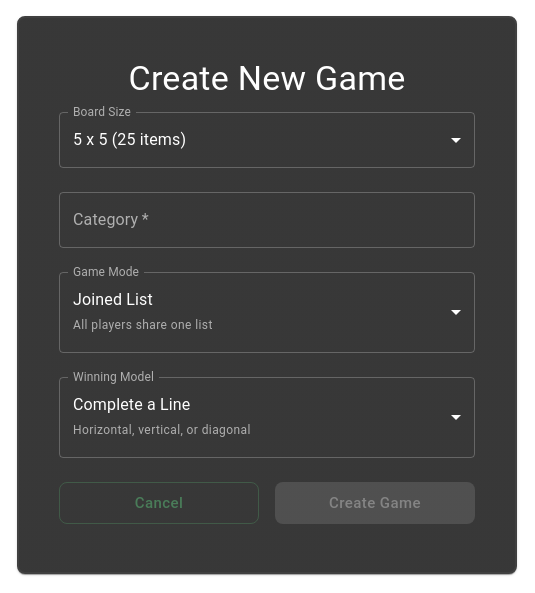
GameCreationForm › Form Rendering › shows board size options
Press the mouse on the dropdown named "Board Size": point(130, 140) [73,130,186,149]
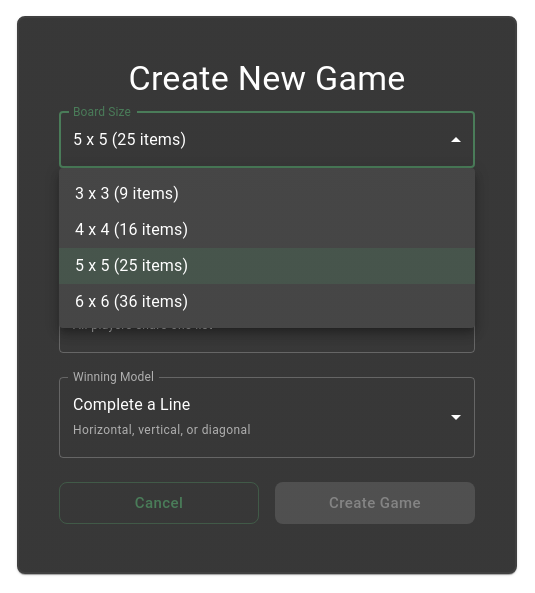
Expected: the number of options "3 x 3 (9 items)" is 1, [75,184,179,203]
Expected: the number of options "4 x 4 (16 items)" is 1, [75,220,188,239]
Expected: the number of options "6 x 6 (36 items)" is 1, [75,292,188,311]
